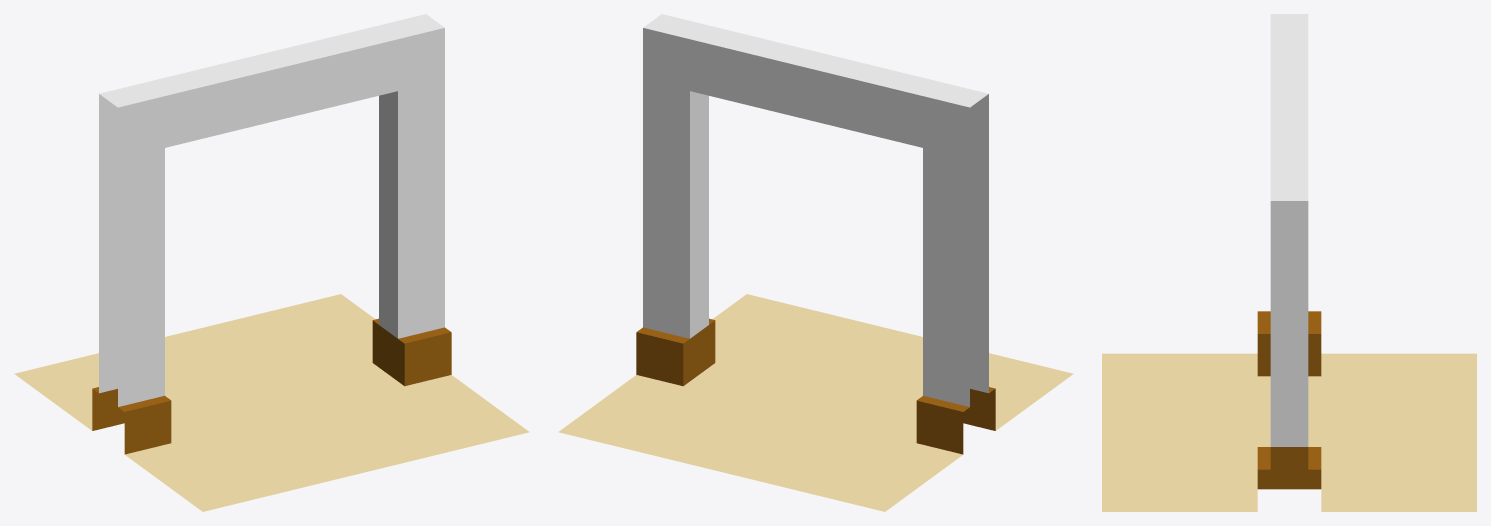
The model's file is I_Wall_Straight_Door_Elevator.fbx.
3 views of the same model, side by side, from view 1: azimuth 30°, elevation 25°; view 2: azimuth 150°, elevation 25°; view 3: azimuth 270°, elevation 25° (orthographic).
Visible parts, largest first — view 1: I_Wall_Straight_Door_Elevator; view 2: I_Wall_Straight_Door_Elevator; view 3: I_Wall_Straight_Door_Elevator.
Part boxes in pixels (x1=…): I_Wall_Straight_Door_Elevator: x1=14, y1=14, x2=529, y2=511; I_Wall_Straight_Door_Elevator: x1=558, y1=14, x2=1073, y2=511; I_Wall_Straight_Door_Elevator: x1=1102, y1=14, x2=1476, y2=511.
Bounding box in the file's own units: 200 × 200 × 200.
1 material, 1 textured.
